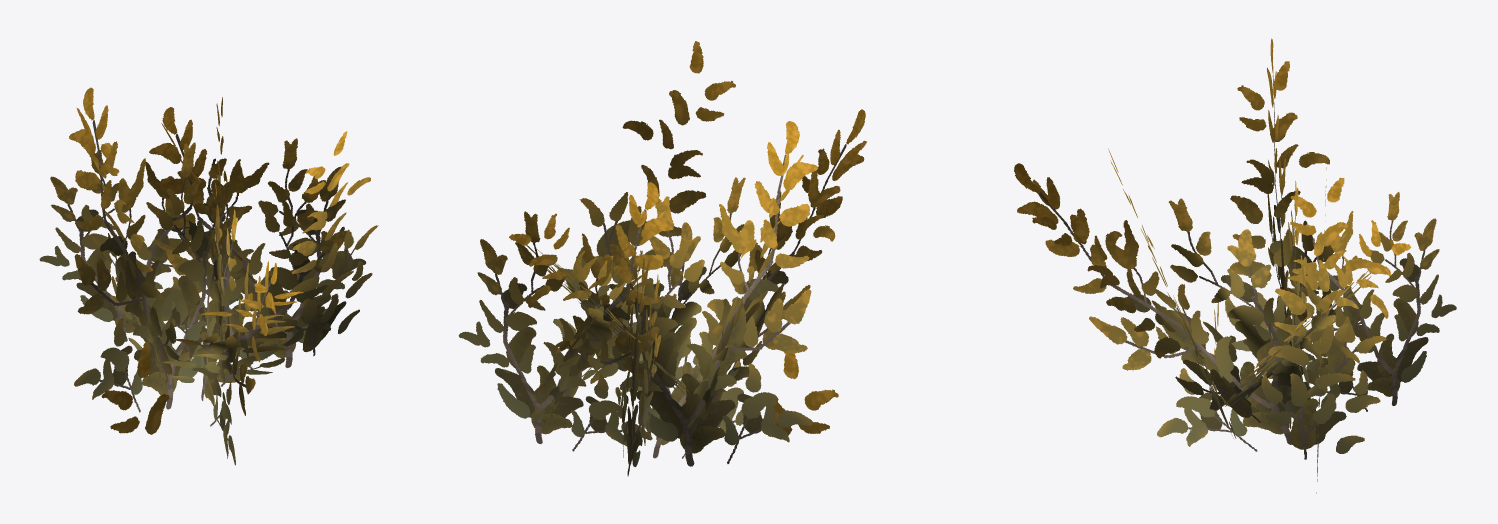
Rendered from SM_DesertBush01.fbx.
3 views of the same model, side by side, from view 1: azimuth 30°, elevation 25°; view 2: azimuth 150°, elevation 25°; view 3: azimuth 270°, elevation 25° (orthographic). The views are drawn at different scales.
Visible parts, largest first — view 1: SM_DesertBush01; view 2: SM_DesertBush01; view 3: SM_DesertBush01.
Part boxes in pixels (x1=…): SM_DesertBush01: x1=39, y1=87, x2=378, y2=465; SM_DesertBush01: x1=458, y1=41, x2=866, y2=476; SM_DesertBush01: x1=1014, y1=38, x2=1456, y2=493.
Size of the model in its own units: 319 by 338 by 363.
